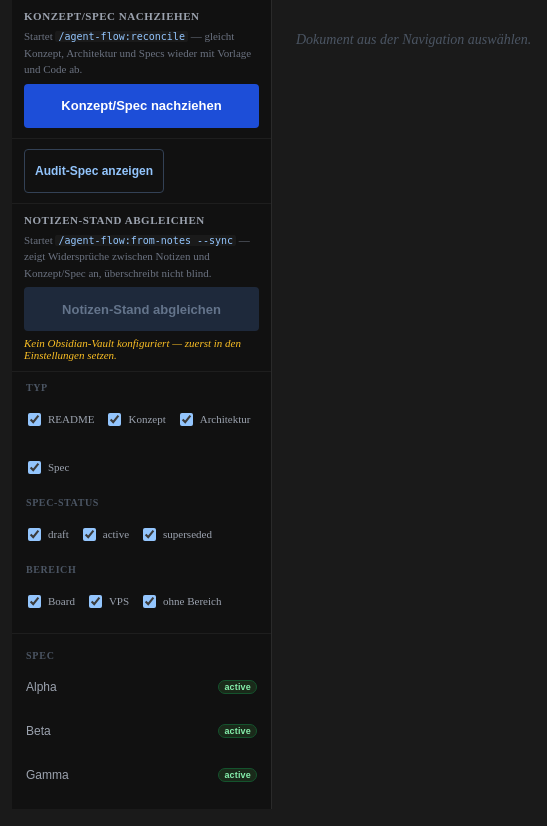
Test case: spec-bereichs-filter AC2–AC4 (S-295) › AC2 — Abwahl eines Bereichs blendet dessen Specs aus; area-lose hängen an „ohne Bereich"
The image size is (547, 826).
Expected: the text "Alpha" is shown, [26, 680, 57, 694]
Click the checkbox with id "spec-filter-area-board".
click(34, 601)  # box [28, 594, 41, 608]
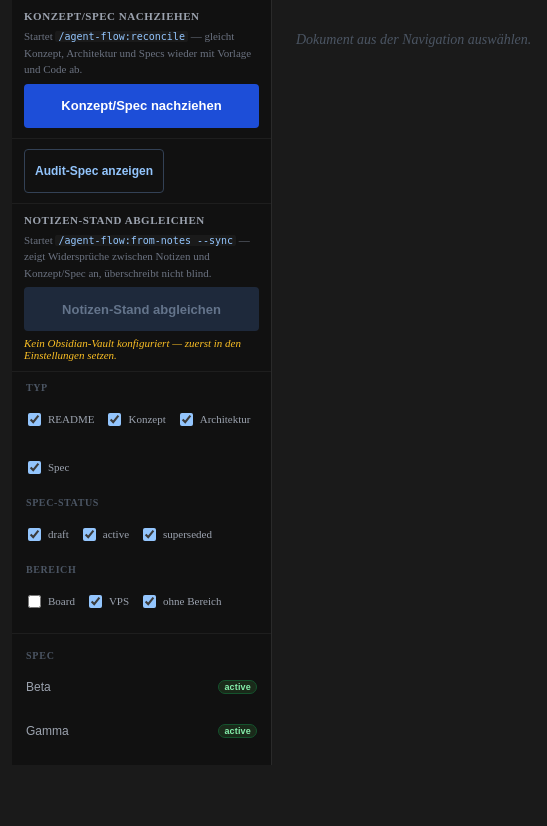
Expected: the text "Beta" is shown, [26, 680, 51, 694]
Expected: the button "Alpha" is gone
Click the checkbox with id "spec-filter-area-__ohne_bereich__".
click(150, 601)  # box [143, 594, 156, 608]
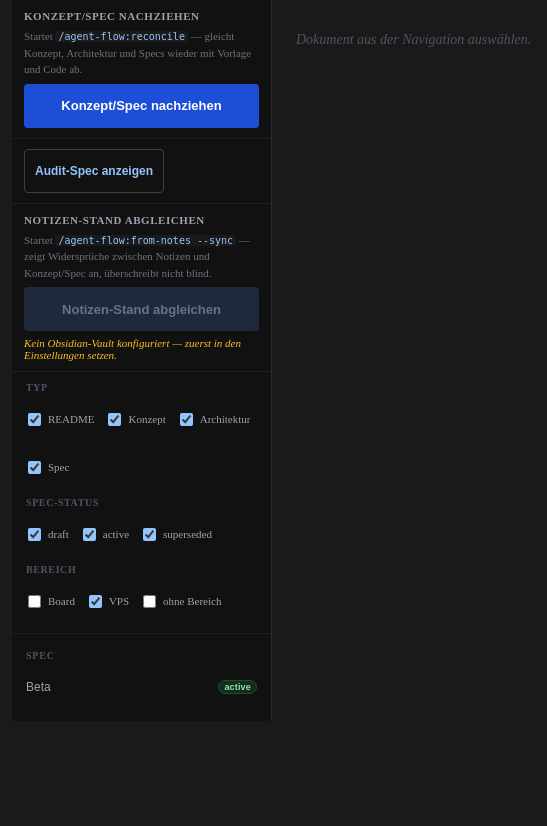
Expected: the text "Beta" is shown, [26, 680, 51, 694]
Expected: the button "Gamma" is gone
